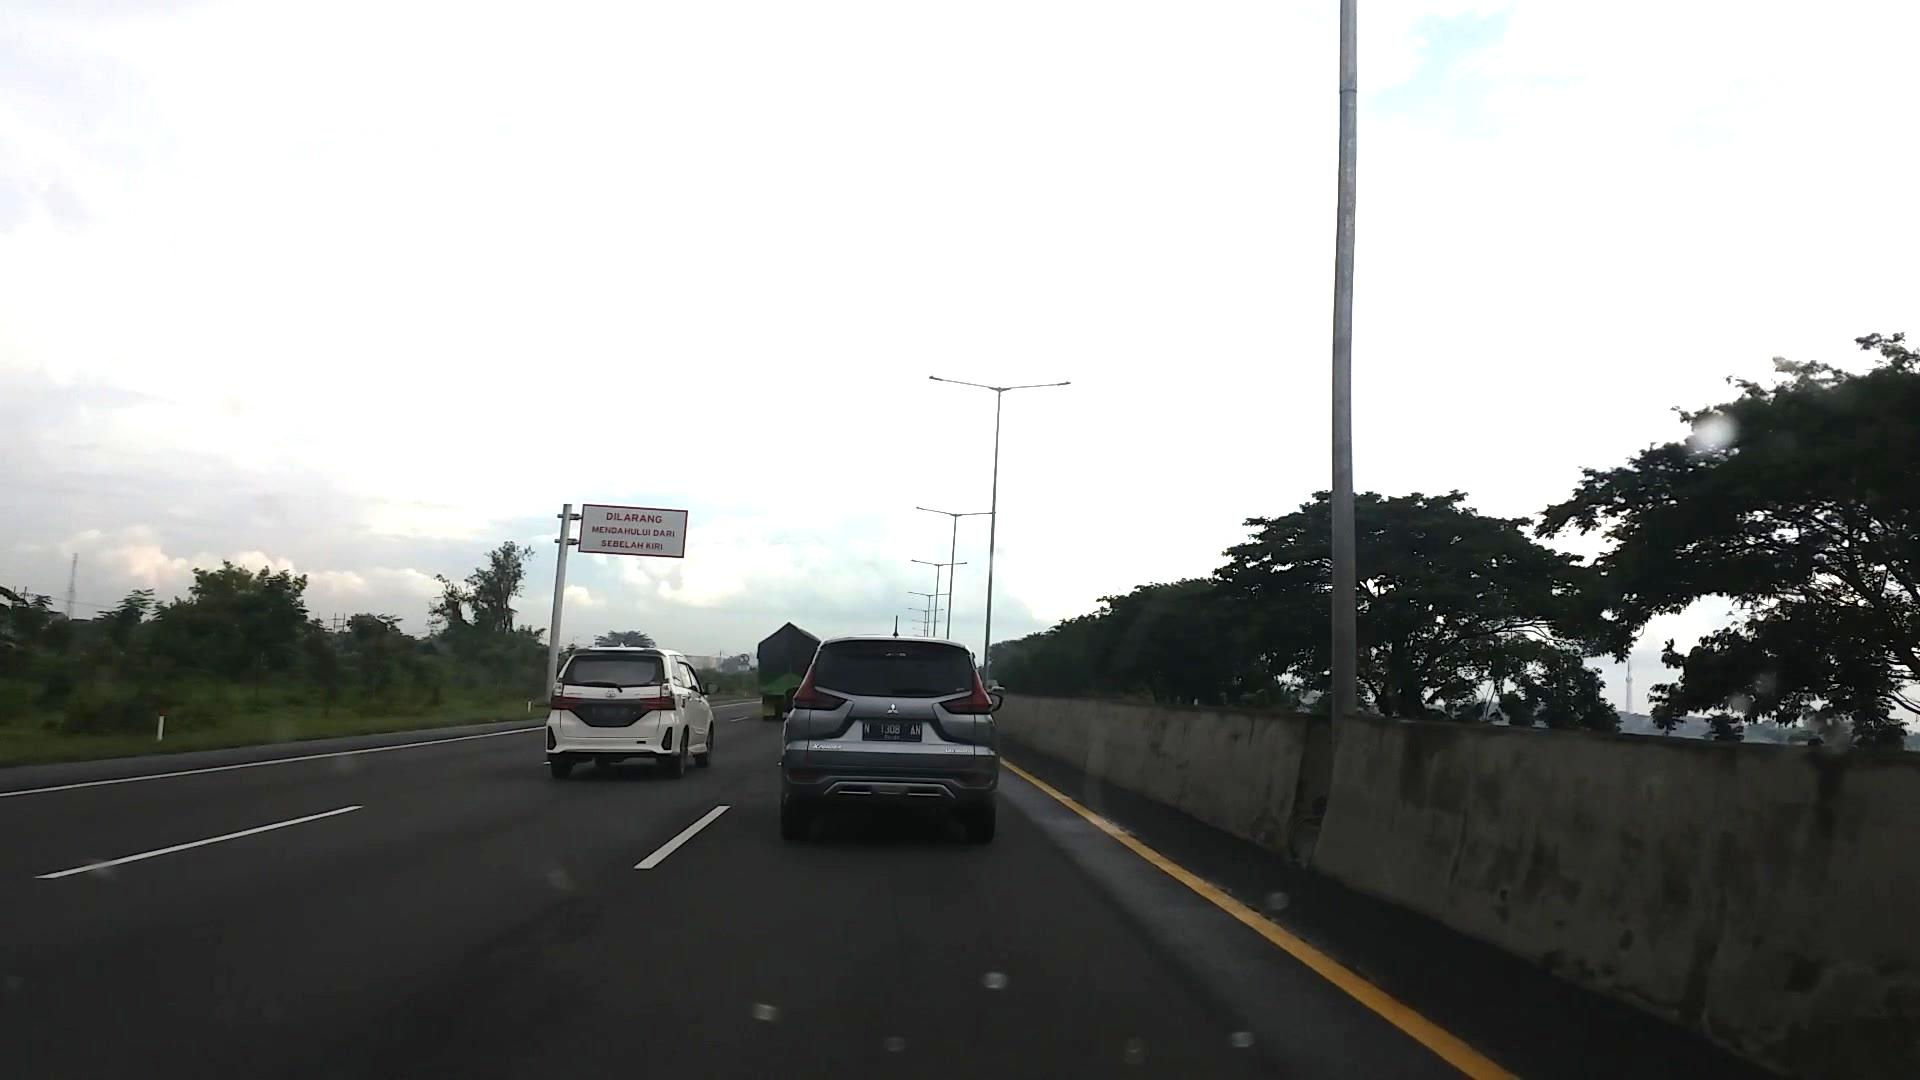plate_positive: (862, 721, 923, 742)
